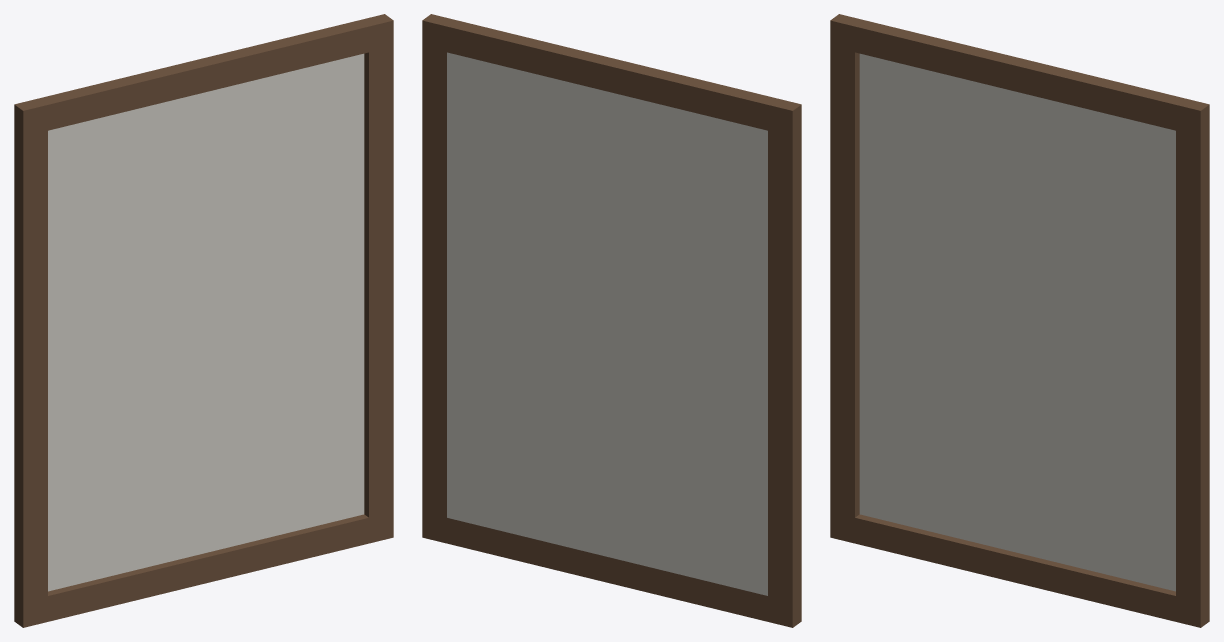
The picture shows the model from 3 angles, left to right: view 1: azimuth 30°, elevation 25°; view 2: azimuth 150°, elevation 25°; view 3: azimuth 330°, elevation 25°; orthographic projection.
Visible parts, largest first — view 1: Picture, Frame; view 2: Picture, Frame; view 3: Picture, Frame.
Part boxes in pixels (x1=…): Picture: x1=48, y1=53, x2=364, y2=591; Frame: x1=14, y1=14, x2=393, y2=627; Picture: x1=447, y1=52, x2=767, y2=595; Frame: x1=422, y1=14, x2=801, y2=627; Picture: x1=859, y1=53, x2=1175, y2=591; Frame: x1=830, y1=14, x2=1209, y2=627.
Bounding box in the file's own units: 0.6 × 0.8 × 0.025.
